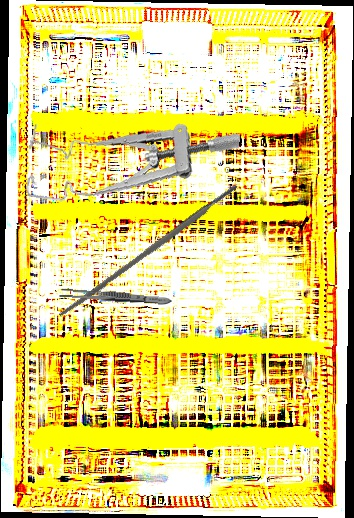Dressing Forceps: (58, 287, 173, 307)
Scalpel Handle: (57, 183, 240, 320)
Speculum: (23, 104, 241, 224)
